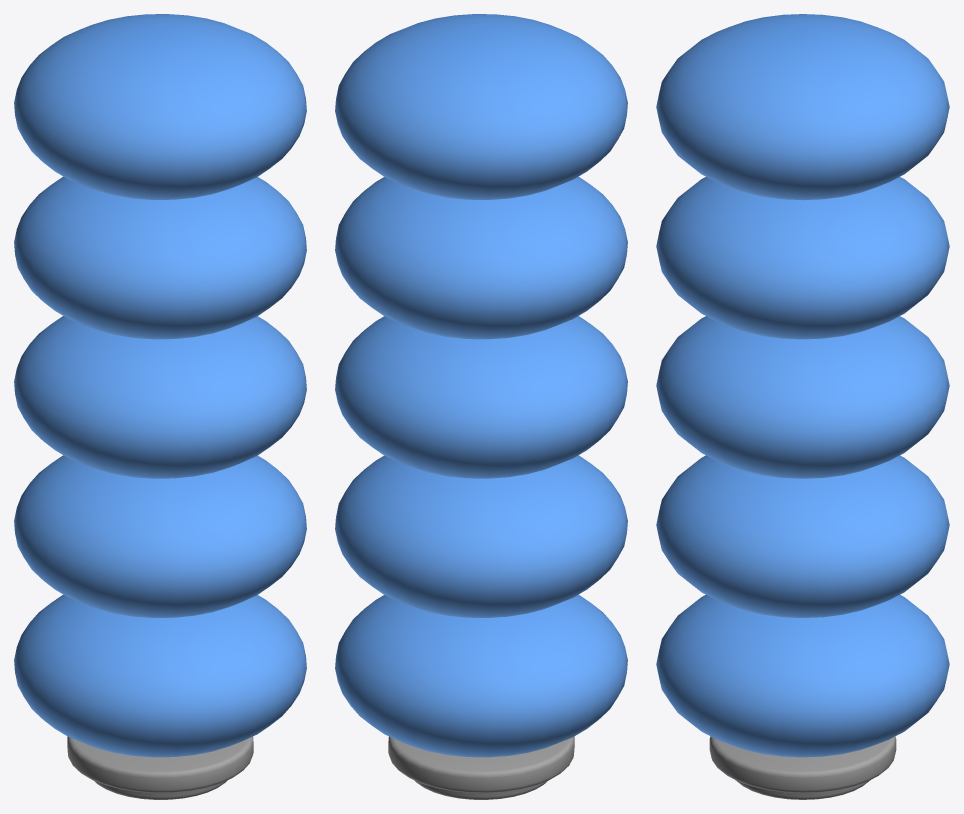
File: trap_trap_2.glb
3 views of the same model, side by side, from view 1: azimuth 30°, elevation 25°; view 2: azimuth 150°, elevation 25°; view 3: azimuth 270°, elevation 25° (orthographic).
Parts seen in each view (by area): view 1: Cylinder.015_visual; view 2: Cylinder.015_visual; view 3: Cylinder.015_visual.
Boxes of the visible parts, left/top/right/bottom form: Cylinder.015_visual: left=14, top=14, right=306, bottom=799; Cylinder.015_visual: left=335, top=14, right=627, bottom=799; Cylinder.015_visual: left=656, top=14, right=949, bottom=799.
Size of what is drawn, in the model's own units: 0.7507 by 2.07 by 0.7507.
Materials: 1 (1 with a texture image).
